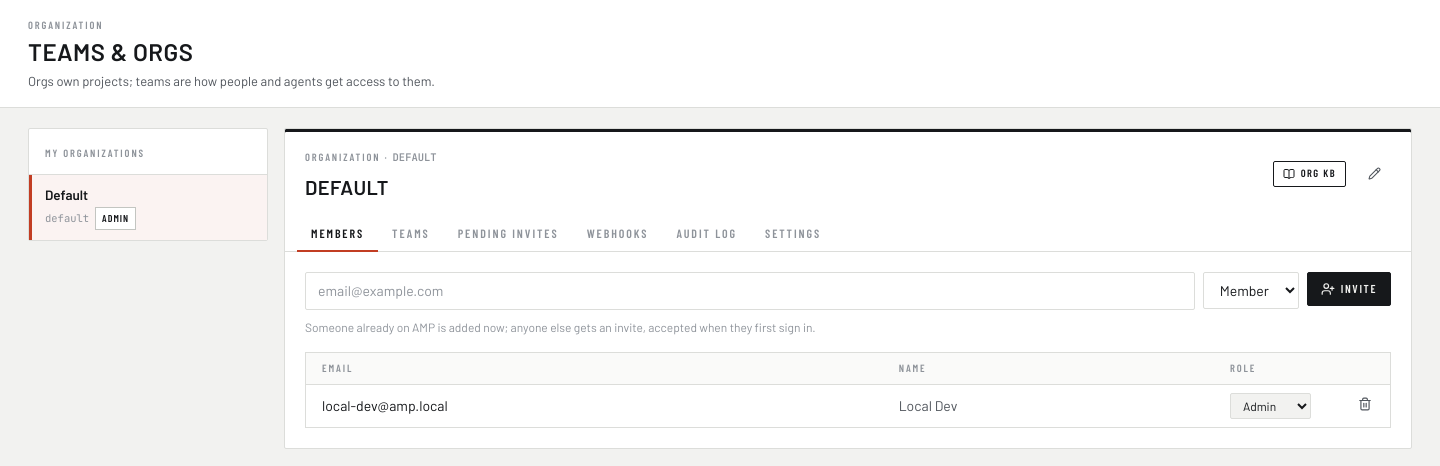
it: Teams & orgs > Inbox access (AMP #4877) › a viewer with neither standing sees no action — and no dead end
What coordinates should you click on to do the following:
click the button "teams"
I would click on:
 (411, 233)
Its box is [378,214,444,252].
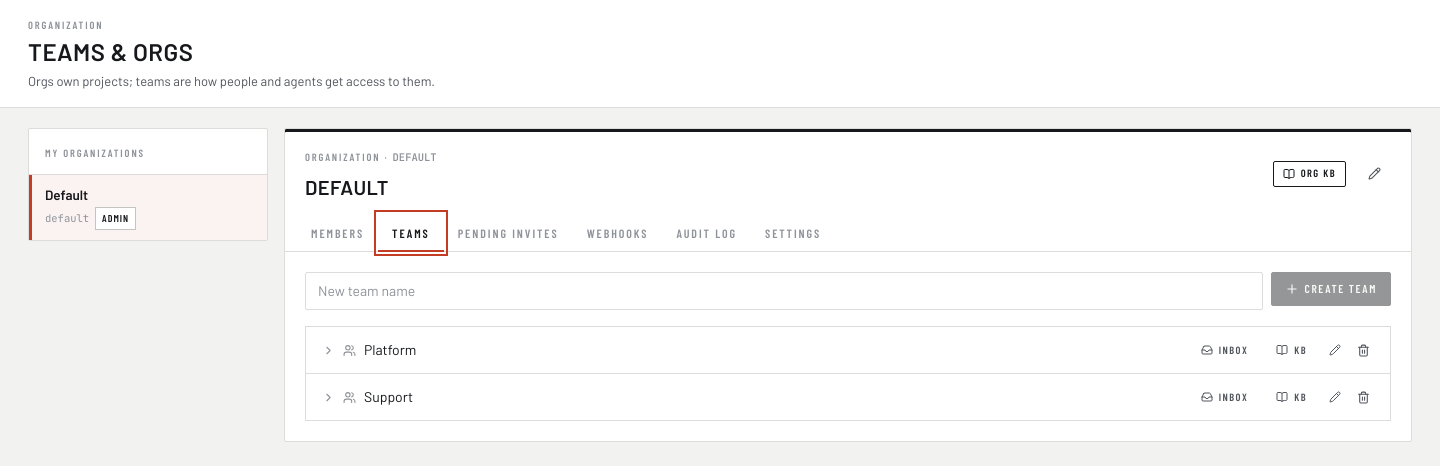
Check: the text "Platform" is shown, box [364,340,416,360]
